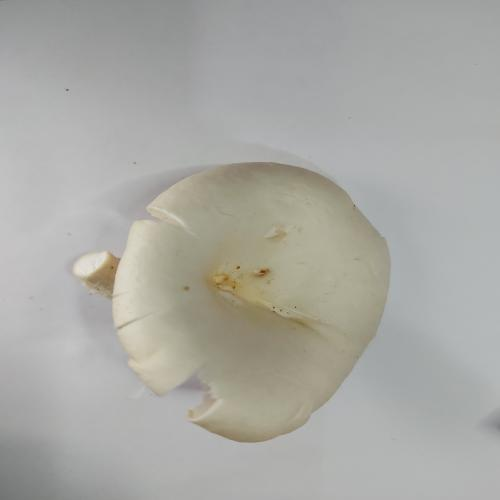Oyster Mushroom: (72, 161, 392, 444)
